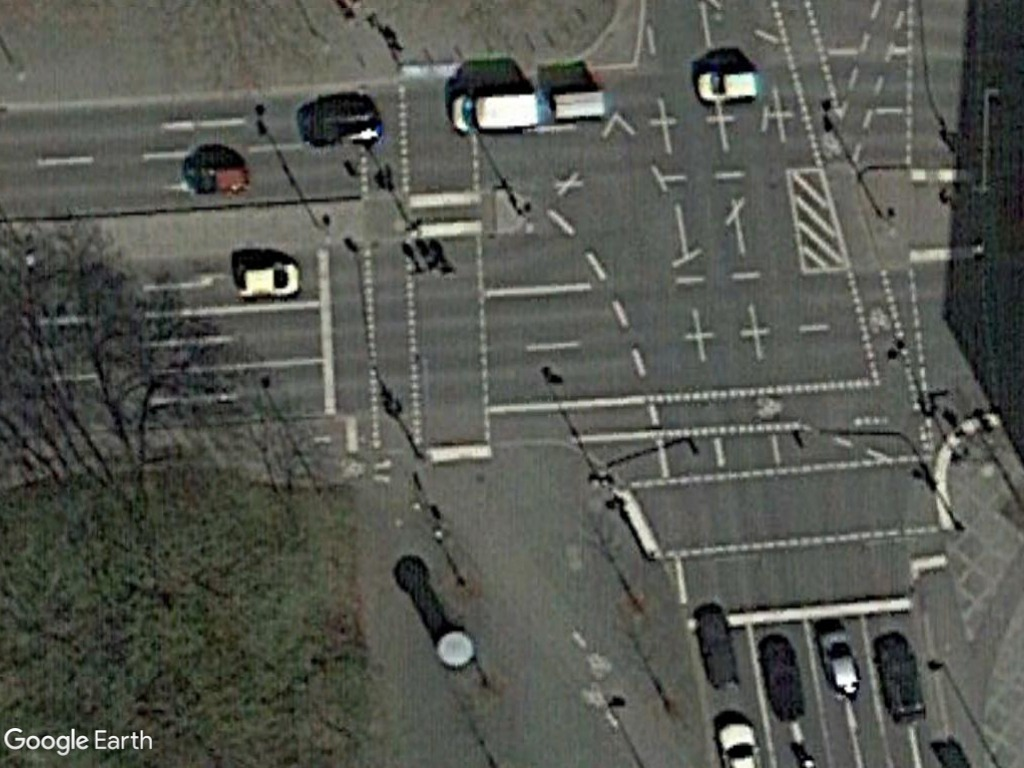car: (229, 258, 302, 300)
van: (445, 86, 544, 141), (691, 68, 762, 104)
